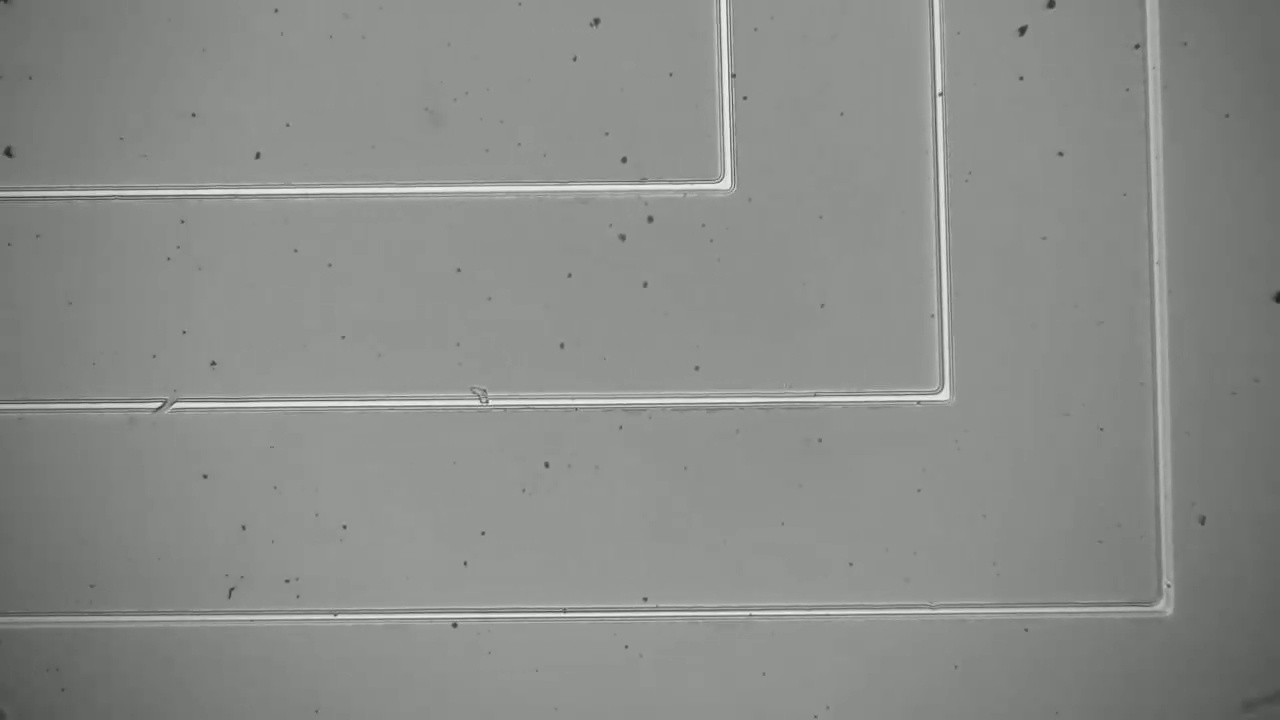open: (139, 383, 186, 427)
stains_enbedded: (458, 377, 495, 425)
